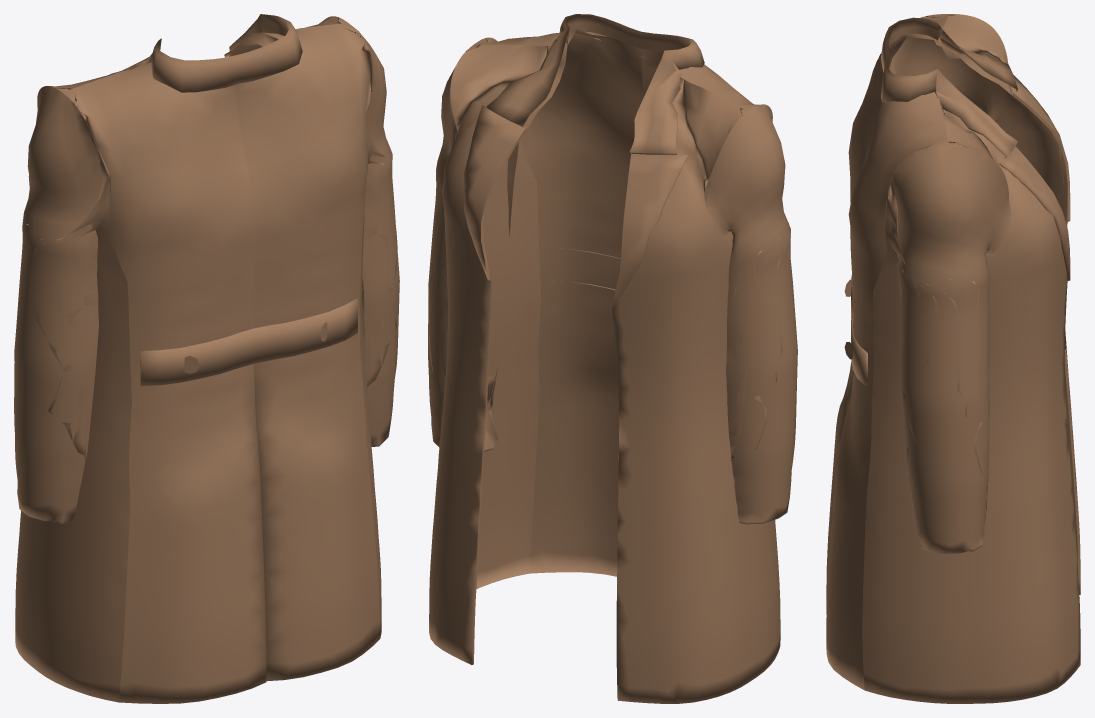
Rendered from sack_coat.glb.
3 renders of one model, left to right at view 1: azimuth 30°, elevation 25°; view 2: azimuth 150°, elevation 25°; view 3: azimuth 270°, elevation 25°, orthographic. The views are drawn at different scales.
Parts seen in each view (by area): view 1: back_l, back_r, fore_l, sleeve_top_l, belt, sleeve_top_r, collar, sleeve_under_l, sleeve_under_r, fore_r; view 2: fore_l, fore_r, back_r, sleeve_top_l, collar, sleeve_top_r, lapel_l, lapel_r, sleeve_under_l, back_l, sleeve_under_r; view 3: fore_r, sleeve_top_r, back_r, fore_l, collar, sleeve_top_l, back_l, sleeve_under_r, lapel_r, belt, lapel_l, fold_l.
Part boxes in pixels (x1=…): back_l: x1=62, y1=62, x2=266, y2=703; back_r: x1=237, y1=22, x2=380, y2=681; fore_l: x1=15, y1=73, x2=131, y2=702; sleeve_top_l: x1=14, y1=86, x2=103, y2=523; belt: x1=140, y1=298, x2=357, y2=385; sleeve_top_r: x1=354, y1=27, x2=399, y2=446; collar: x1=109, y1=14, x2=302, y2=92; sleeve_under_l: x1=14, y1=145, x2=110, y2=463; sleeve_under_r: x1=362, y1=106, x2=397, y2=387; fore_r: x1=229, y1=16, x2=381, y2=637; fore_l: x1=612, y1=77, x2=780, y2=703; fore_r: x1=429, y1=44, x2=567, y2=664; back_r: x1=474, y1=29, x2=644, y2=576; sleeve_top_l: x1=704, y1=104, x2=797, y2=524; collar: x1=486, y1=14, x2=704, y2=154; sleeve_top_r: x1=428, y1=66, x2=518, y2=446; lapel_l: x1=612, y1=153, x2=688, y2=309; lapel_r: x1=464, y1=105, x2=525, y2=279; sleeve_under_l: x1=726, y1=222, x2=795, y2=507; back_l: x1=641, y1=49, x2=759, y2=111; sleeve_under_r: x1=428, y1=170, x2=514, y2=451; fore_r: x1=862, y1=100, x2=1080, y2=703; sleeve_top_r: x1=892, y1=146, x2=1011, y2=553; back_r: x1=826, y1=92, x2=949, y2=690; fore_l: x1=938, y1=14, x2=1080, y2=594; collar: x1=881, y1=17, x2=1018, y2=157; sleeve_top_l: x1=893, y1=37, x2=1011, y2=120; back_l: x1=826, y1=14, x2=949, y2=614; sleeve_under_r: x1=885, y1=175, x2=989, y2=525; lapel_r: x1=999, y1=146, x2=1070, y2=280; belt: x1=844, y1=275, x2=867, y2=385; lapel_l: x1=1009, y1=74, x2=1063, y2=180; fold_l: x1=1012, y1=93, x2=1070, y2=221.
Size of the model in its own units: 0.5768 by 0.9111 by 0.3595.
